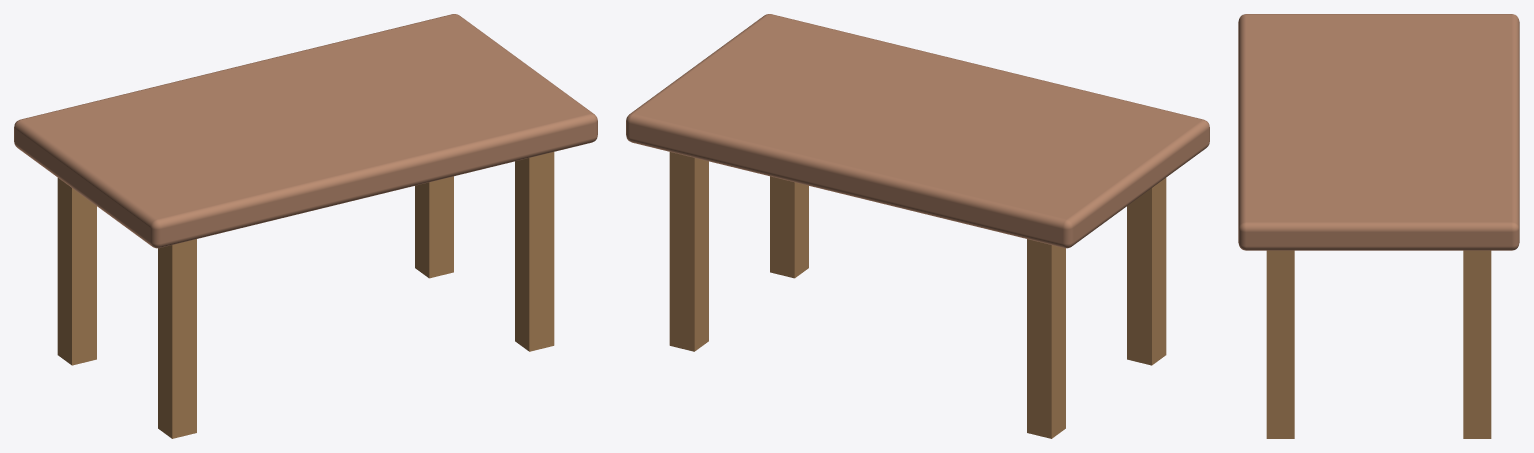
File: coffee-table.glb
3 renders of one model, left to right at view 1: azimuth 30°, elevation 25°; view 2: azimuth 150°, elevation 25°; view 3: azimuth 270°, elevation 25°, orthographic.
Parts seen in each view (by area): view 1: poc-coffee-table-part-63, poc-coffee-table-part-67, poc-coffee-table-part-65, poc-coffee-table-part-64, poc-coffee-table-part-66; view 2: poc-coffee-table-part-63, poc-coffee-table-part-66, poc-coffee-table-part-64, poc-coffee-table-part-65, poc-coffee-table-part-67; view 3: poc-coffee-table-part-63, poc-coffee-table-part-66, poc-coffee-table-part-67.
Boxes of the visible parts, box(x1,y1,x2,y2) form: poc-coffee-table-part-63: box(14, 14, 597, 248); poc-coffee-table-part-67: box(515, 152, 554, 351); poc-coffee-table-part-65: box(158, 239, 196, 438); poc-coffee-table-part-64: box(57, 178, 96, 365); poc-coffee-table-part-66: box(415, 176, 453, 278); poc-coffee-table-part-63: box(626, 14, 1209, 248); poc-coffee-table-part-66: box(669, 152, 708, 351); poc-coffee-table-part-64: box(1027, 239, 1065, 438); poc-coffee-table-part-65: box(1127, 178, 1166, 365); poc-coffee-table-part-67: box(770, 176, 808, 278); poc-coffee-table-part-63: box(1238, 14, 1519, 250); poc-coffee-table-part-66: box(1463, 250, 1491, 438); poc-coffee-table-part-67: box(1266, 250, 1294, 438).
Bounding box in the file's own units: 0.9 × 0.45 × 0.5.
